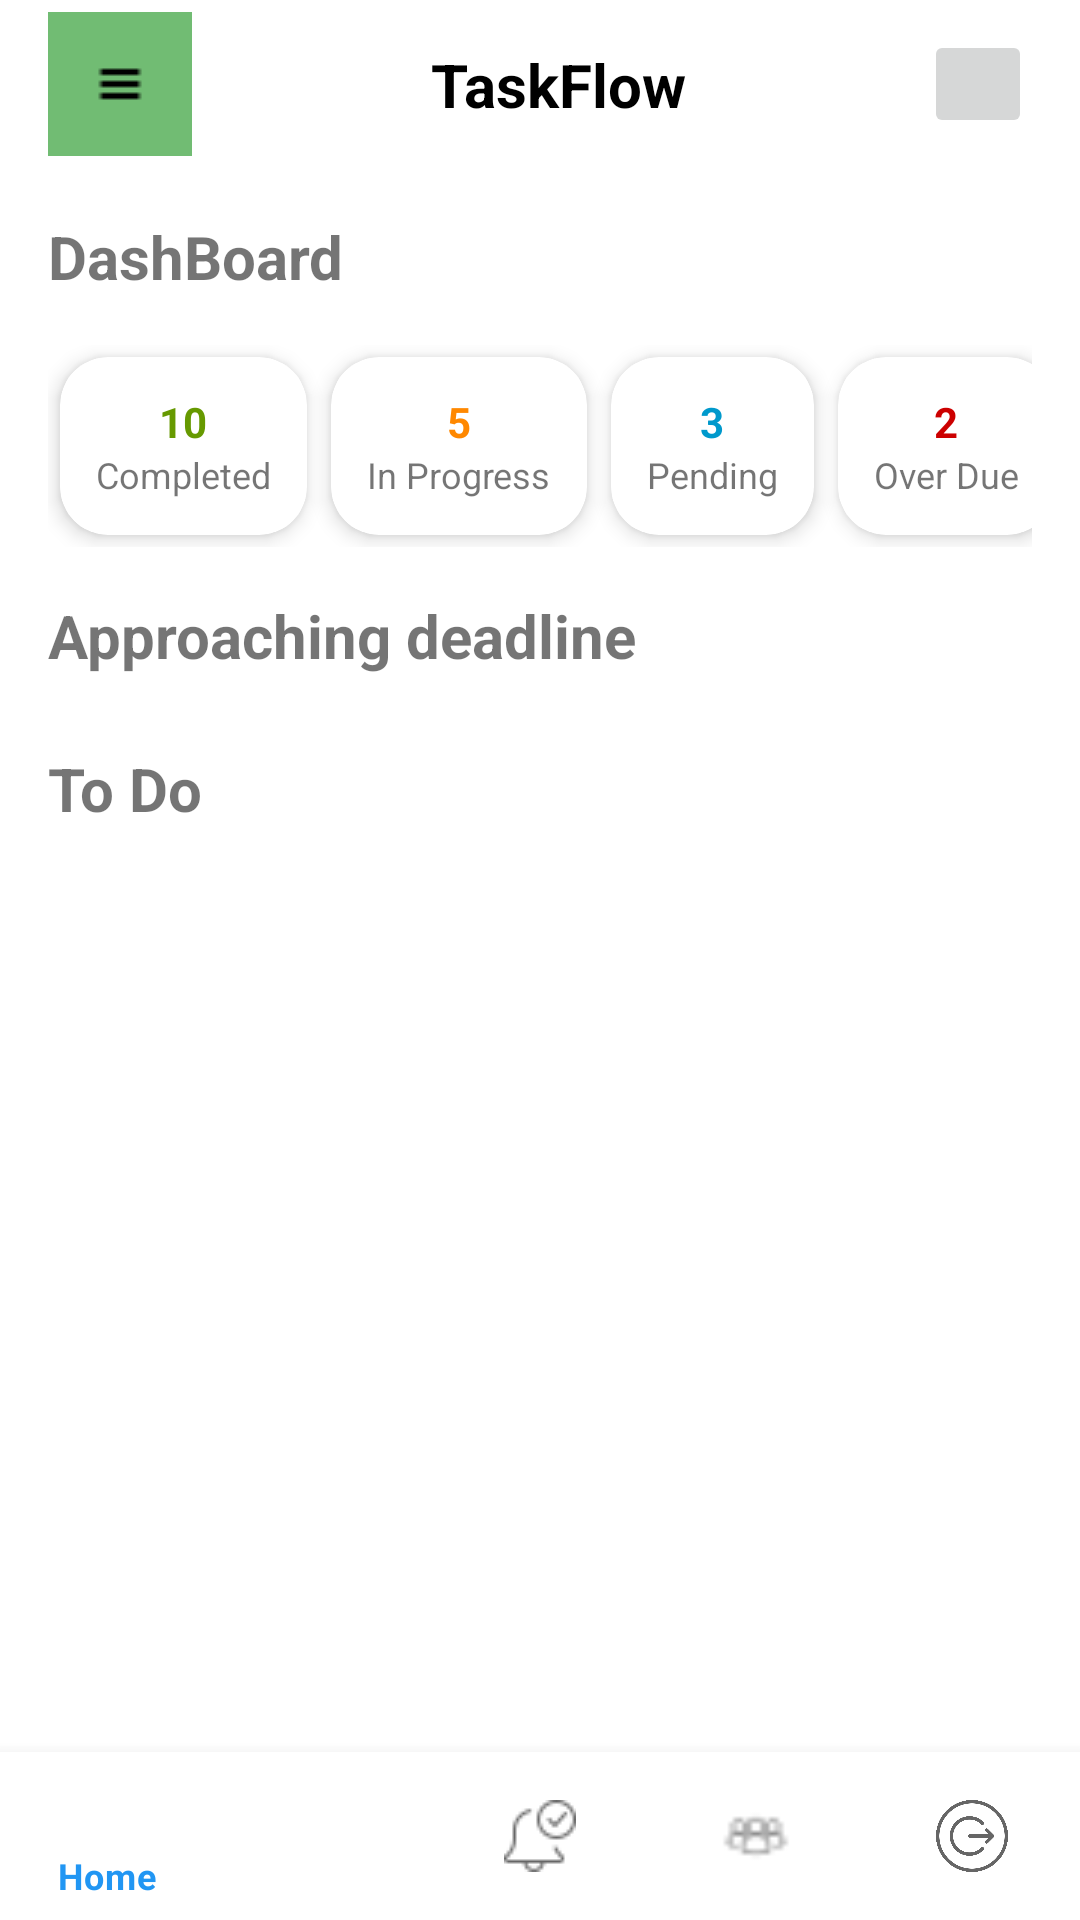

Icon bounding boxes for this 1080*1920 phone screenshot, format (x1, y1, x2, y2):
Menu: (48, 12, 192, 156)
